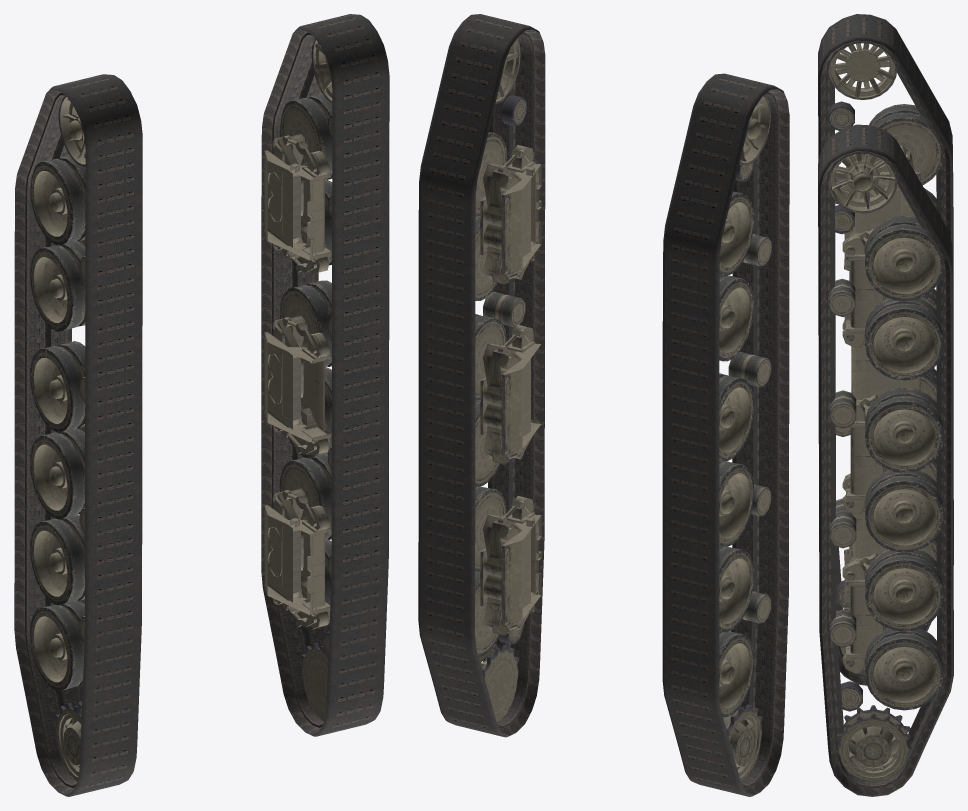
File: Chassis.glb
3 renders of one model, left to right at view 1: azimuth 30°, elevation 25°; view 2: azimuth 150°, elevation 25°; view 3: azimuth 270°, elevation 25°, orthographic. The views are drawn at different scales.
Parts seen in each view (by area): view 1: set_4_group_0, set_5_group_0, set_1_group_0, set_3_group_0, set_0_group_0; view 2: set_4_group_0, set_5_group_0, set_1_group_0, set_3_group_0, set_0_group_0; view 3: set_1_group_0, set_5_group_0, set_3_group_0, set_4_group_0.
Boxes of the visible parts, box(x1,y1,x2,y2) form: set_4_group_0: box(14, 74, 142, 796); set_5_group_0: box(261, 14, 389, 736); set_1_group_0: box(264, 39, 332, 720); set_3_group_0: box(30, 95, 85, 780); set_0_group_0: box(272, 134, 304, 619); set_4_group_0: box(662, 73, 789, 796); set_5_group_0: box(418, 14, 545, 737); set_1_group_0: box(475, 38, 541, 722); set_3_group_0: box(719, 95, 771, 781); set_0_group_0: box(483, 154, 518, 635); set_1_group_0: box(828, 154, 943, 781); set_5_group_0: box(818, 124, 953, 796); set_3_group_0: box(828, 43, 942, 670); set_4_group_0: box(818, 14, 953, 685).
Size of the model in its own units: 3.24 by 7.2 by 1.37.
Materials: 6 (6 with a texture image).
